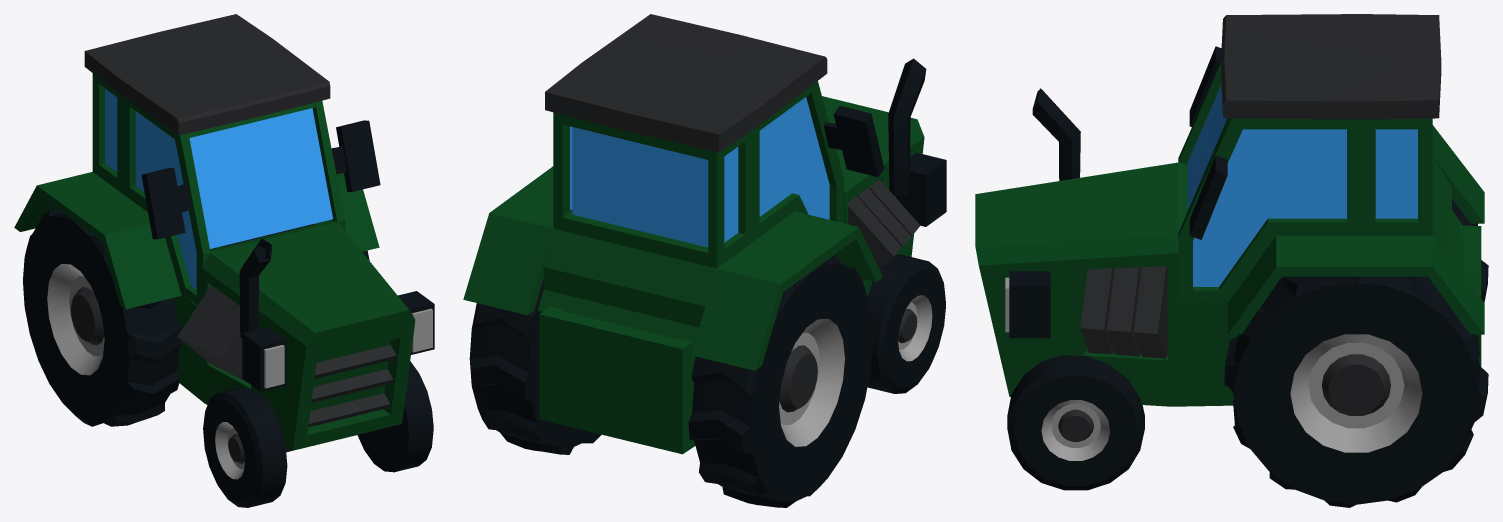
The model's file is Tractor_1.fbx.
3 views of the same model, side by side, from view 1: azimuth 30°, elevation 25°; view 2: azimuth 150°, elevation 25°; view 3: azimuth 270°, elevation 25° (orthographic). The views are drawn at different scales.
Visible parts, largest first — view 1: Tractor_1; view 2: Tractor_1; view 3: Tractor_1.
Part boxes in pixels (x1=…): Tractor_1: x1=14, y1=14, x2=434, y2=507; Tractor_1: x1=463, y1=14, x2=946, y2=507; Tractor_1: x1=975, y1=14, x2=1488, y2=507.
Bounding box in the file's own units: 66.66 × 84.21 × 102.
